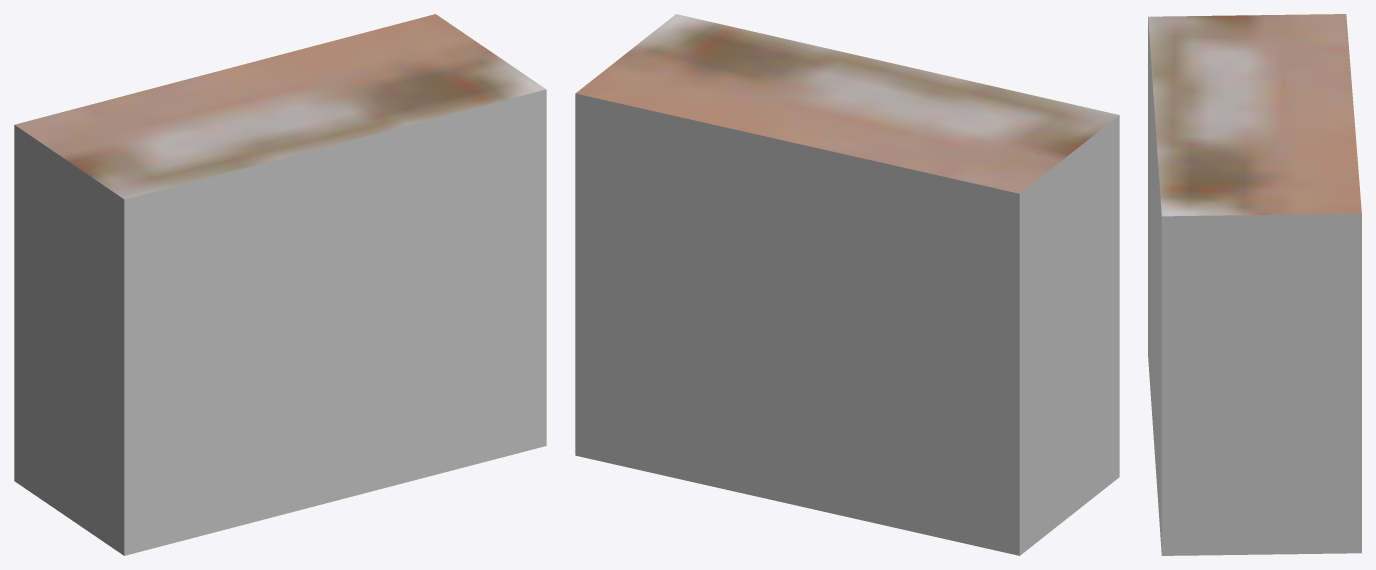
The model's file is DEBW_0010007THYR.gltf.
3 views of the same model, side by side, from view 1: azimuth 30°, elevation 25°; view 2: azimuth 150°, elevation 25°; view 3: azimuth 270°, elevation 25° (orthographic). The views are drawn at different scales.
Parts seen in each view (by area): view 1: Z_UP; view 2: Z_UP; view 3: Z_UP.
Boxes of the visible parts, x1,y1,x2,y2 form: Z_UP: (14,14,546,555); Z_UP: (575,14,1119,555); Z_UP: (1148,14,1361,555).
Bounding box in the file's own units: 5.24 × 4.1 × 2.34.
2 materials, 1 textured.
